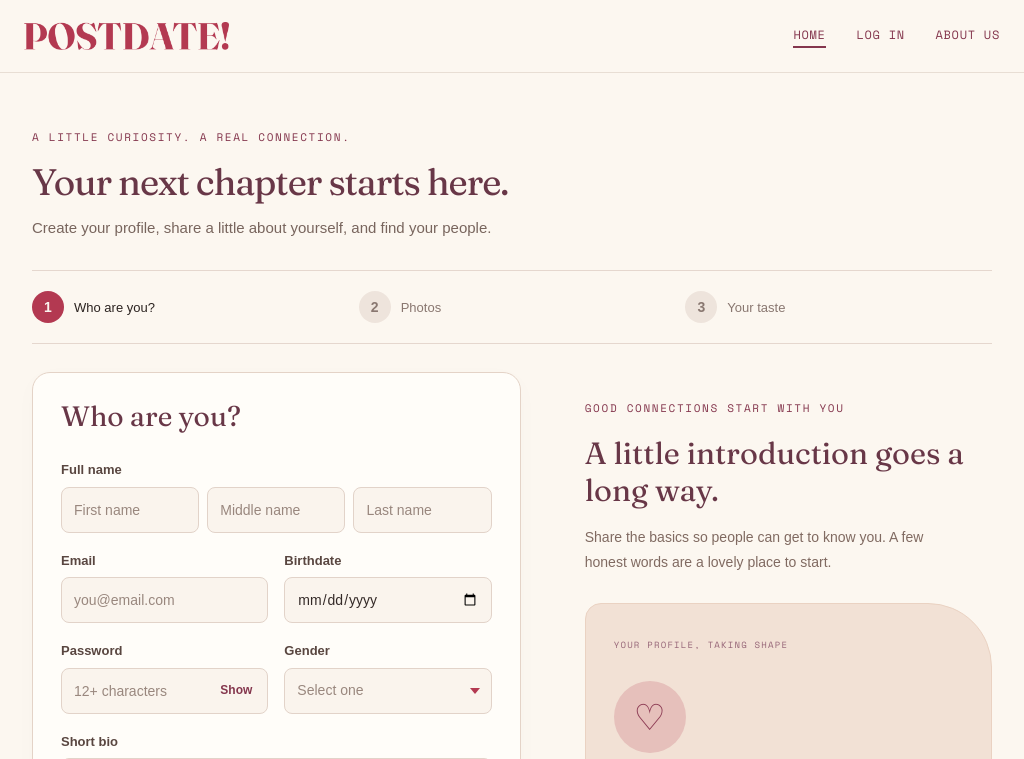
Test: going back in signup preserves the entered account details
Type "Test" into the field with placeholder "First name" at (130, 510), box x1=61 y1=487 x2=199 y2=533
Type "User" into the field with placeholder "Last name" at (423, 510), box x1=354 y1=487 x2=492 y2=533
Type "test@example.com" into the field with placeholder "you@email.com" at (165, 600), box x1=61 y1=577 x2=268 y2=623
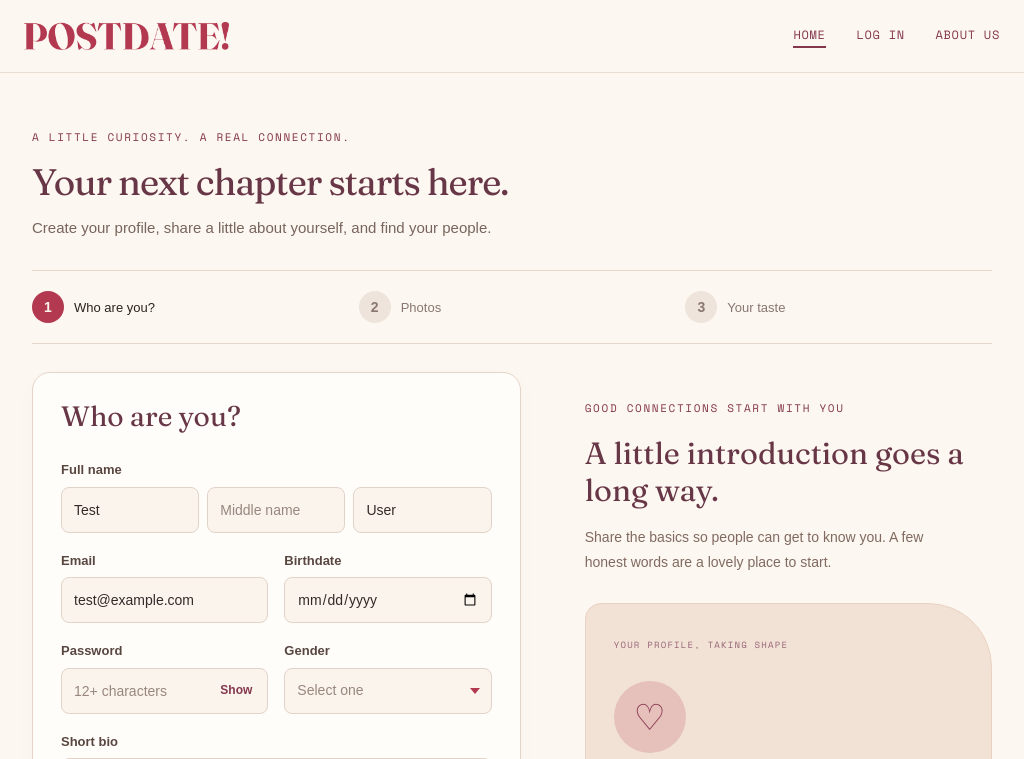
Type "Password123!" into the password field with placeholder "12+ characters" at (165, 691), box x1=61 y1=668 x2=268 y2=714
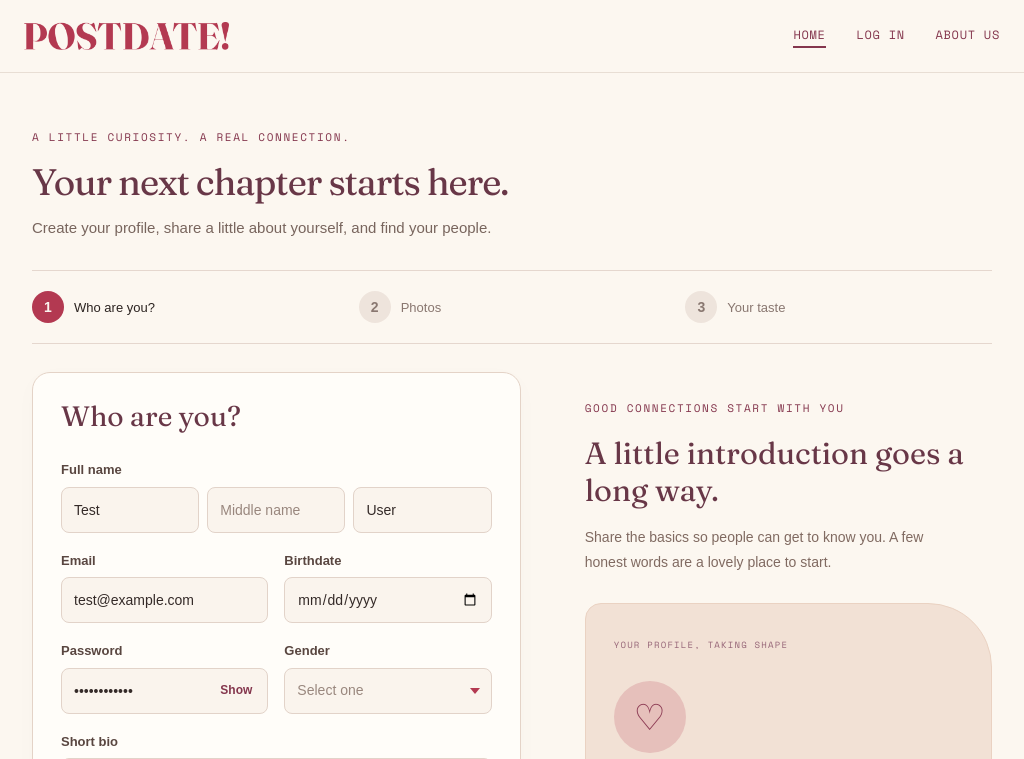
Type "1997-01-01" into the date field labelled "Birthdate" at (388, 600), box x1=284 y1=577 x2=492 y2=623
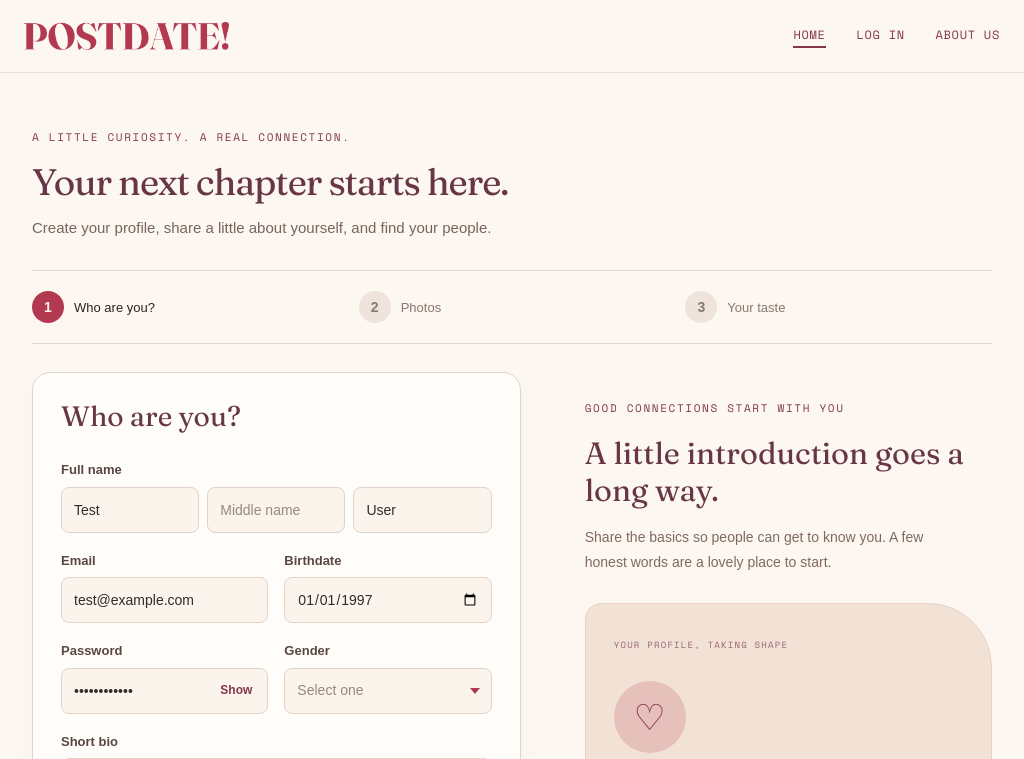
Select "Female" in the dropdown labelled "Gender" at (388, 691), box x1=284 y1=668 x2=492 y2=714
(page scrolled)
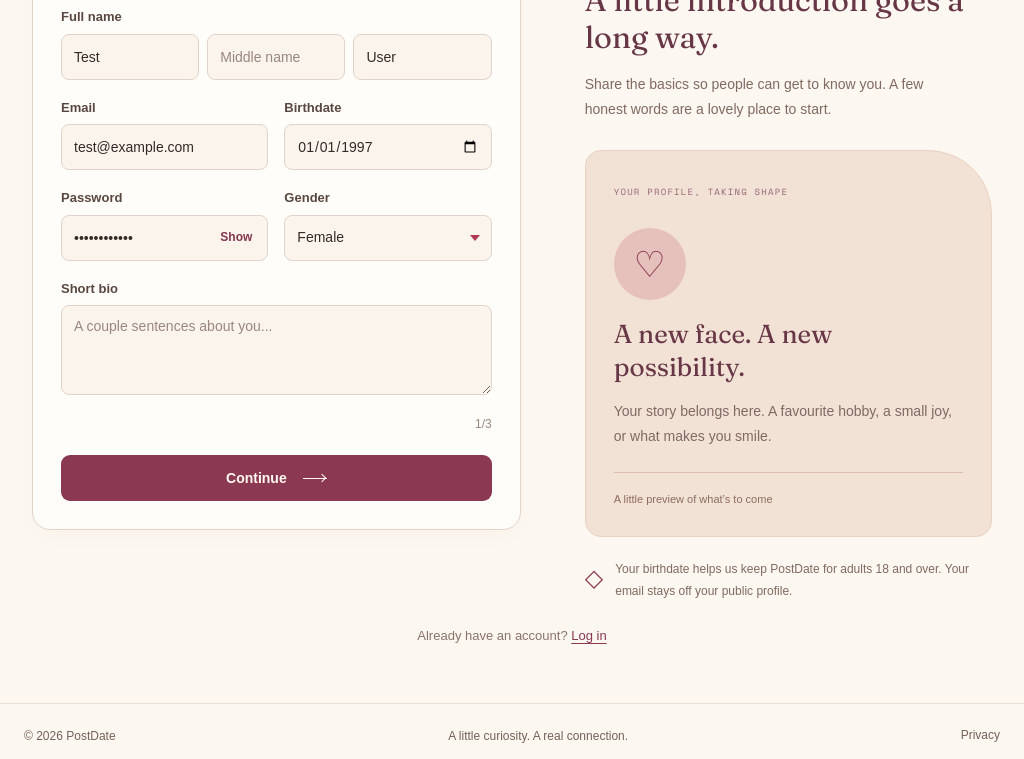
Click the button "Continue" at (276, 478), box x1=61 y1=455 x2=492 y2=501
(page scrolled)
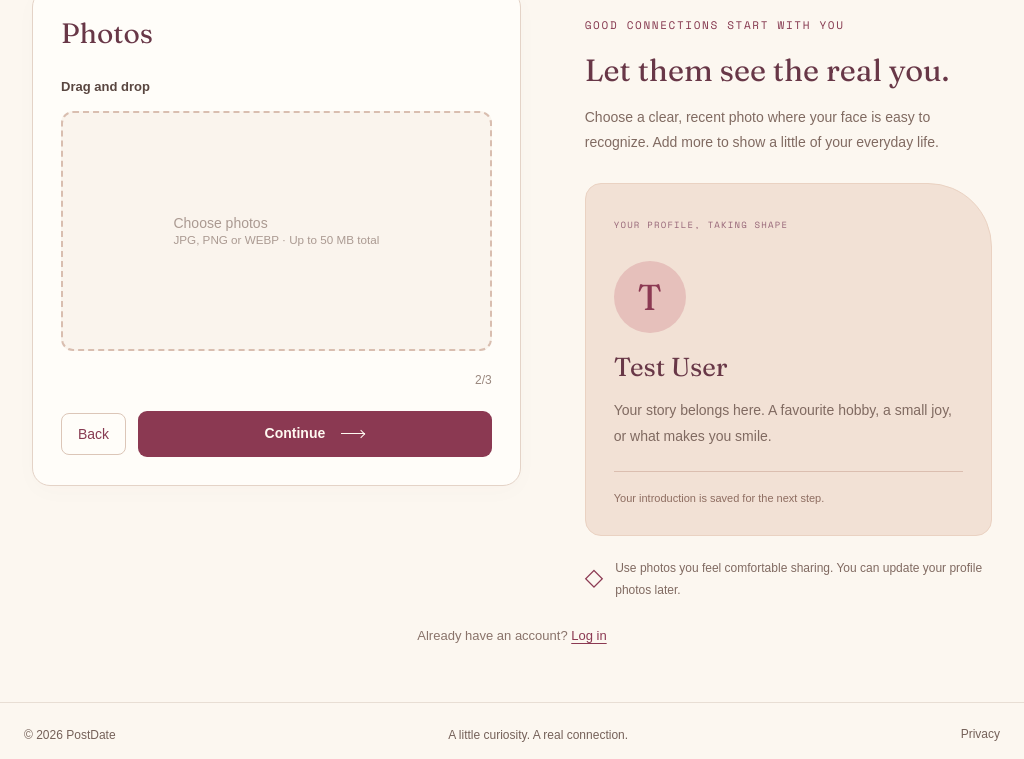
Click the button "Back" at (94, 434), box x1=61 y1=413 x2=126 y2=455
(page scrolled)
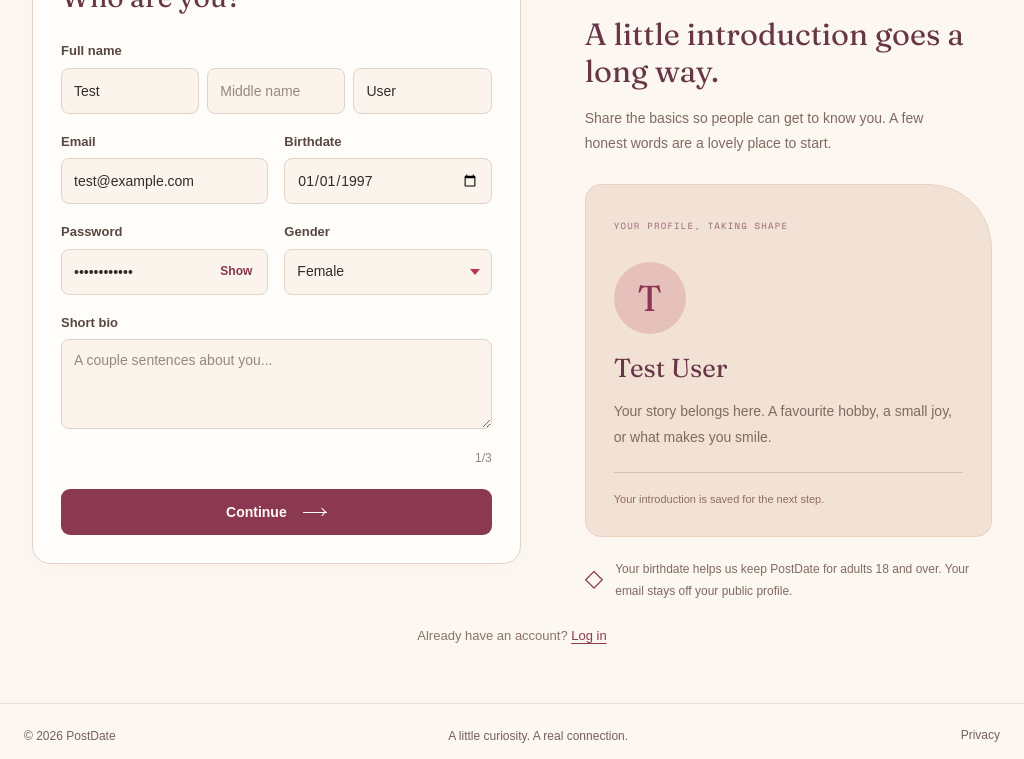
Expected: the field with placeholder "First name" holds "Test", x1=61 y1=68 x2=199 y2=114
Expected: the field with placeholder "you@email.com" holds "test@example.com", x1=61 y1=158 x2=268 y2=204
